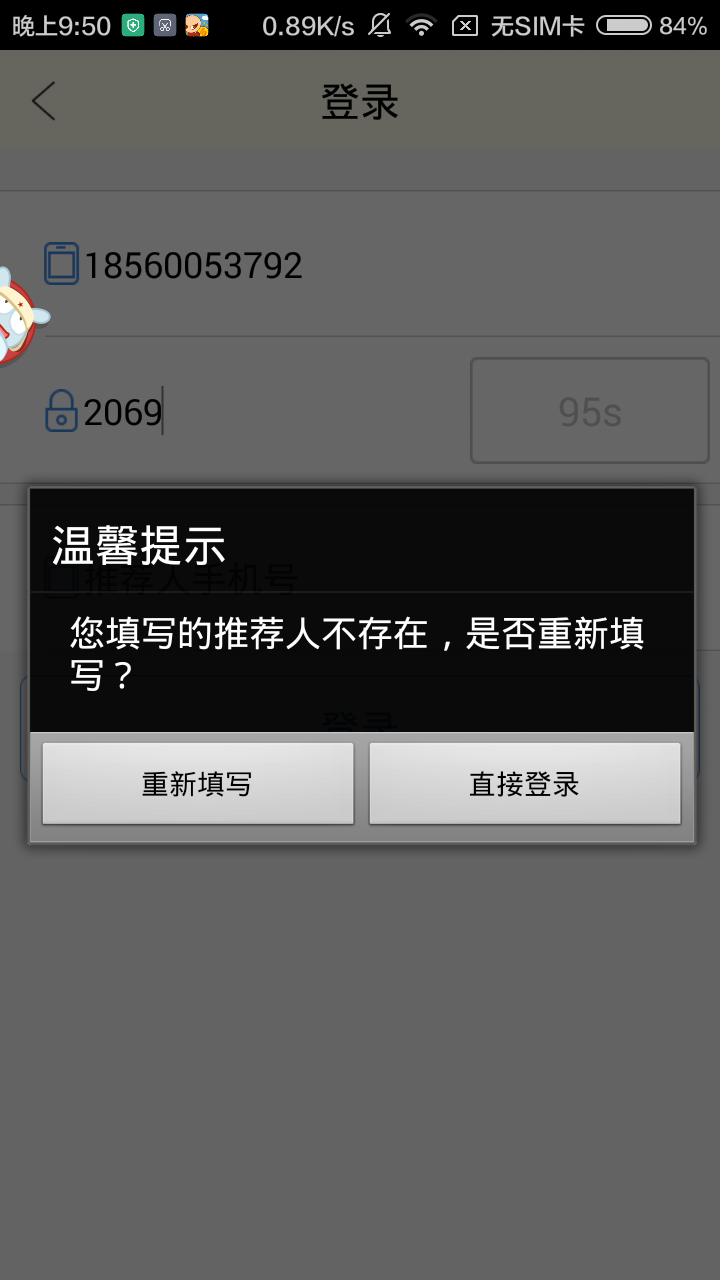alert: (24, 483, 706, 850)
button: (35, 738, 364, 834), (363, 735, 686, 831)
textview: (58, 603, 663, 711), (48, 514, 239, 585)
